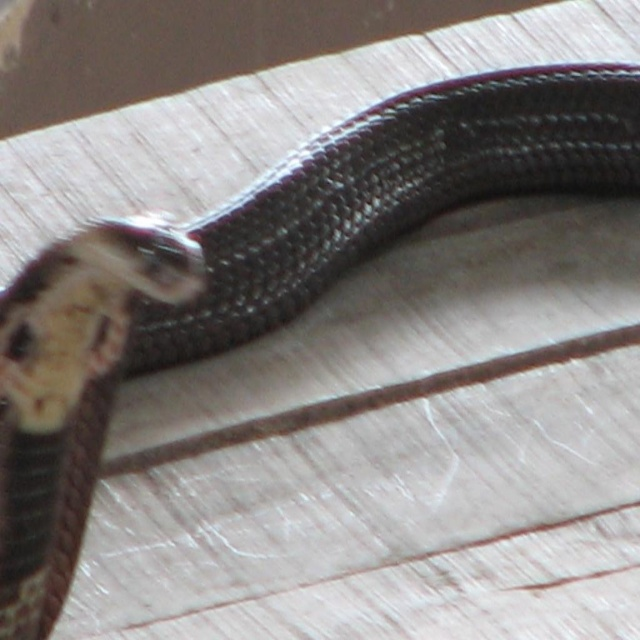Snake: (0, 63, 640, 639)
